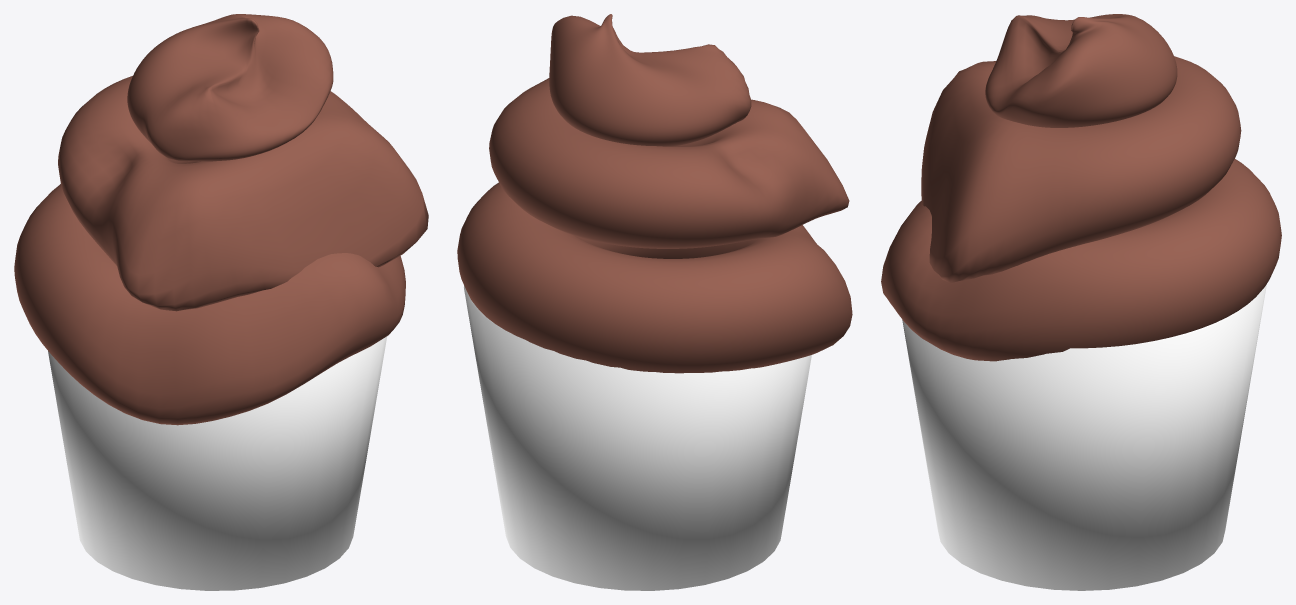
The model's file is chocolate_poor.glb.
3 views of the same model, side by side, from view 1: azimuth 30°, elevation 25°; view 2: azimuth 150°, elevation 25°; view 3: azimuth 270°, elevation 25° (orthographic). The views are drawn at different scales.
Parts seen in each view (by area): view 1: 圓柱體, 環體.001, 環體, 球體; view 2: 圓柱體, 環體, 環體.001, 球體; view 3: 圓柱體, 環體.001, 環體, 球體.
Part boxes in pixels (x1,y1,x2,y2): 圓柱體: (48, 336, 386, 590); 環體.001: (58, 76, 428, 311); 環體: (14, 184, 405, 425); 球體: (127, 14, 333, 161); 圓柱體: (464, 285, 811, 590); 環體: (457, 182, 852, 373); 環體.001: (489, 78, 849, 248); 球體: (549, 14, 751, 146); 圓柱體: (902, 284, 1266, 590); 環體.001: (921, 56, 1241, 283); 環體: (881, 159, 1281, 361); 球體: (985, 14, 1177, 127).
Bounding box in the file's own units: 3.01 × 4.28 × 2.94.
2 materials, 1 textured.
